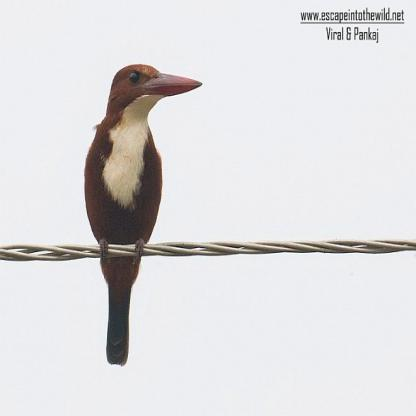Burung: (84, 63, 202, 365)
